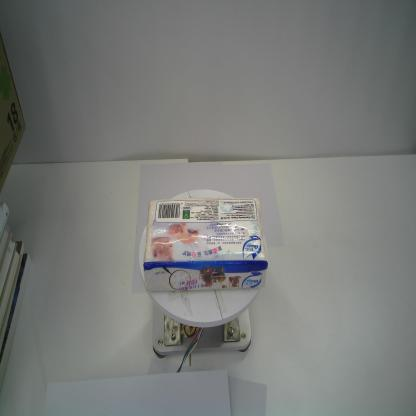Tissue: (142, 194, 268, 294)
